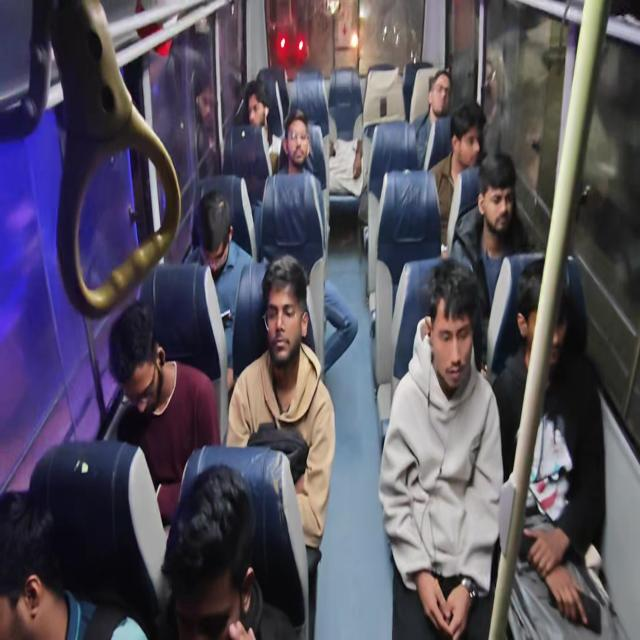person: (378, 258, 504, 638), (492, 255, 606, 636), (226, 254, 336, 636), (108, 299, 221, 527), (0, 489, 149, 639), (276, 108, 358, 373), (450, 150, 534, 370), (160, 463, 258, 638), (182, 190, 255, 386), (427, 99, 486, 252), (410, 68, 452, 171), (243, 79, 281, 173), (190, 65, 221, 178), (480, 46, 510, 155), (326, 110, 363, 195), (277, 108, 315, 176), (244, 78, 270, 128)
